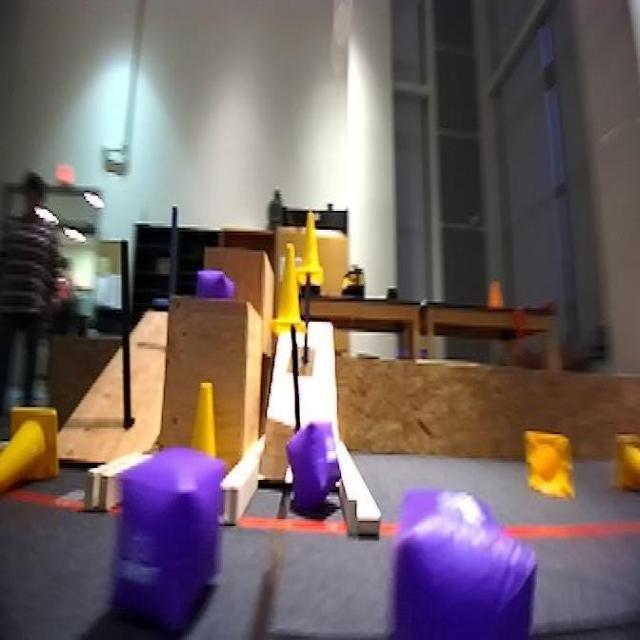frc_cone: (0, 398, 60, 509), (516, 429, 574, 494), (274, 260, 314, 348), (184, 374, 225, 453), (298, 211, 323, 291), (613, 436, 640, 500)
frc_cube: (372, 495, 530, 640), (119, 444, 227, 630), (288, 412, 344, 517), (192, 269, 230, 306)
